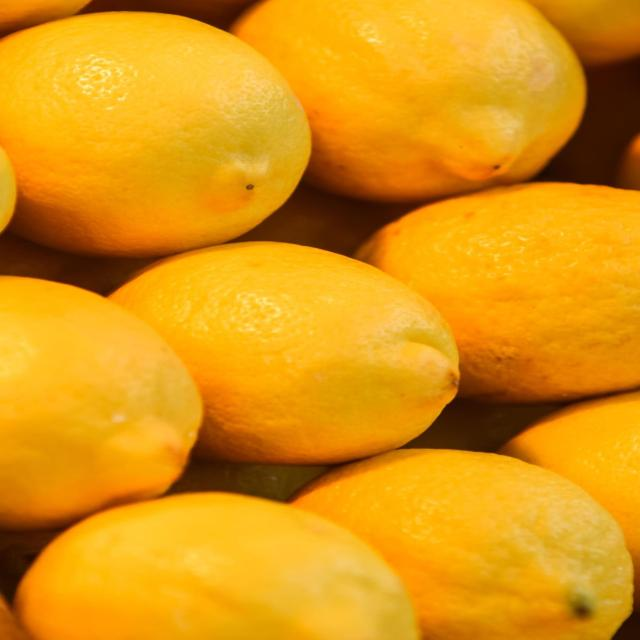lemon: (0, 0, 356, 259), (76, 234, 465, 469)
